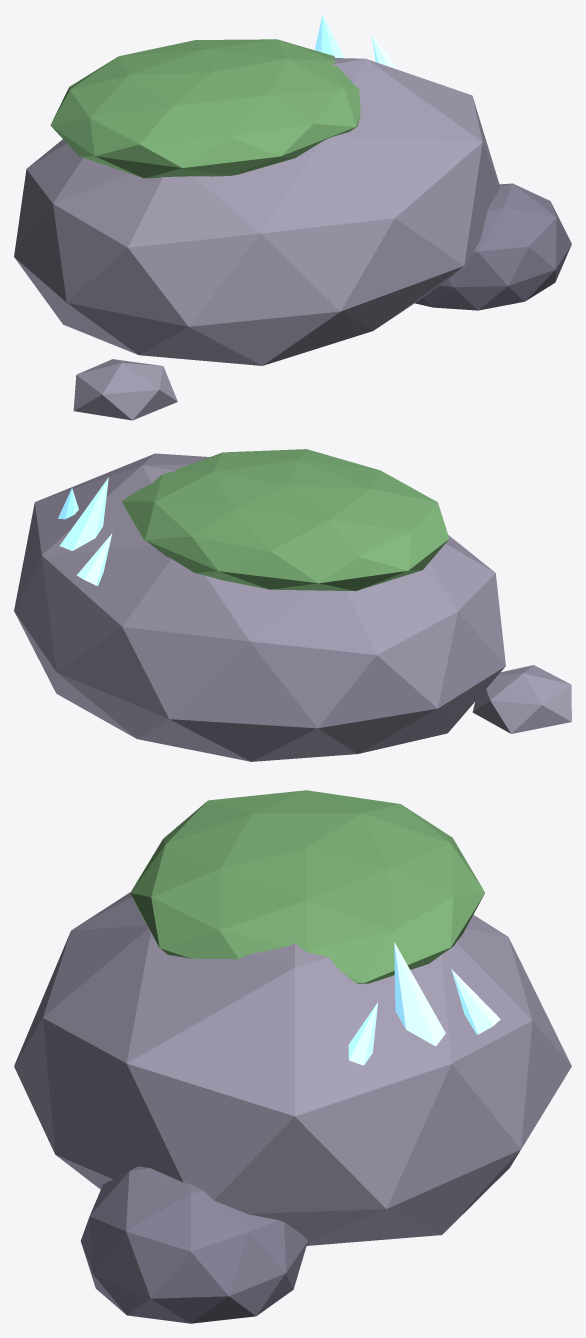
The model's file is rock.glb.
3 renders of one model, top to bottom at view 1: azimuth 30°, elevation 25°; view 2: azimuth 150°, elevation 25°; view 3: azimuth 270°, elevation 25°, orthographic. The views are drawn at different scales.
Visible parts, largest first — view 1: Rock.001; view 2: Rock.001; view 3: Rock.001.
Boxes of the visible parts, left/top/right/bottom form: Rock.001: left=14, top=15, right=571, bottom=420; Rock.001: left=14, top=449, right=571, bottom=761; Rock.001: left=14, top=790, right=571, bottom=1323.
Bounding box in the file's own units: 3.3 × 1.46 × 2.41.
